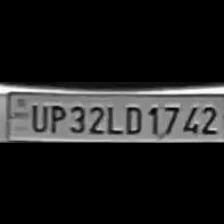1: (146, 102, 164, 136)
2: (197, 102, 217, 132), (86, 102, 104, 132)
3: (65, 100, 85, 132)
4: (178, 102, 200, 132)
7: (153, 102, 178, 136)
D: (120, 102, 142, 134)
L: (104, 102, 122, 132)
P: (46, 101, 66, 133)
U: (26, 101, 46, 131)
